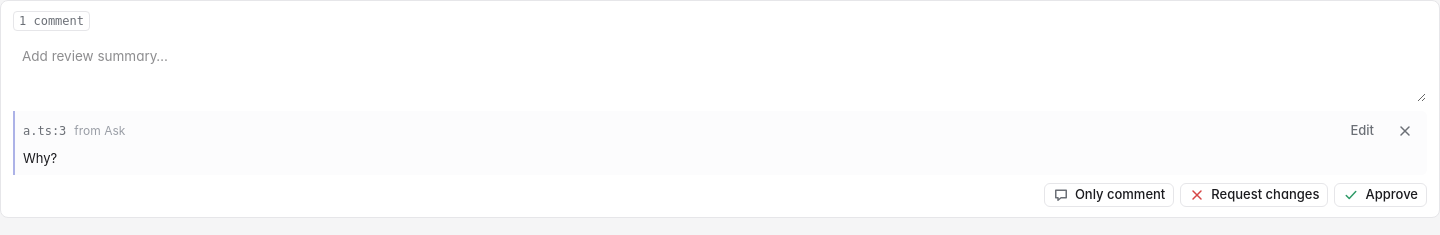
Scenario: removes a pending comment
Click the button named "Remove the comment on a.ts:3" at (1405, 131), box [1391,117,1419,145]
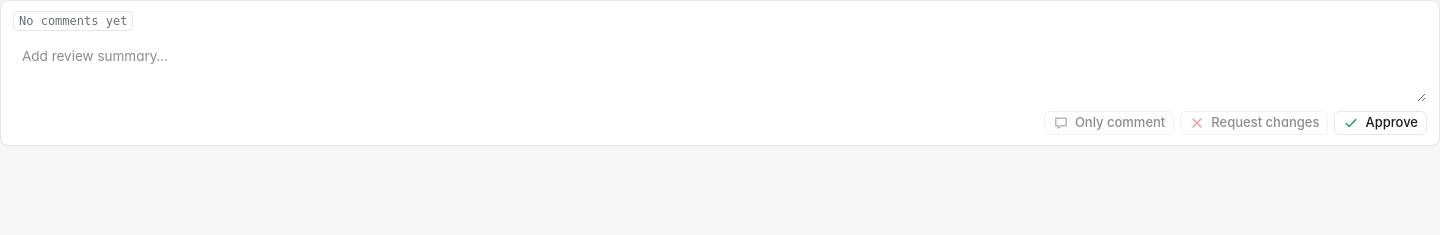
Check: the text "No comments yet" is shown, box [13,11,133,31]
